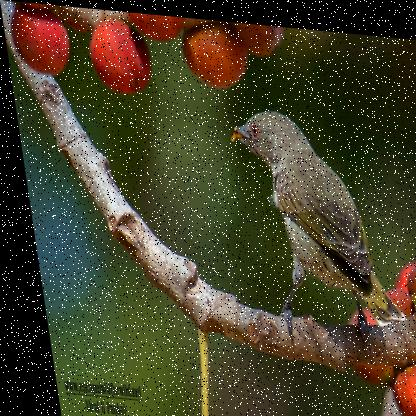Burung: (218, 97, 403, 348)
